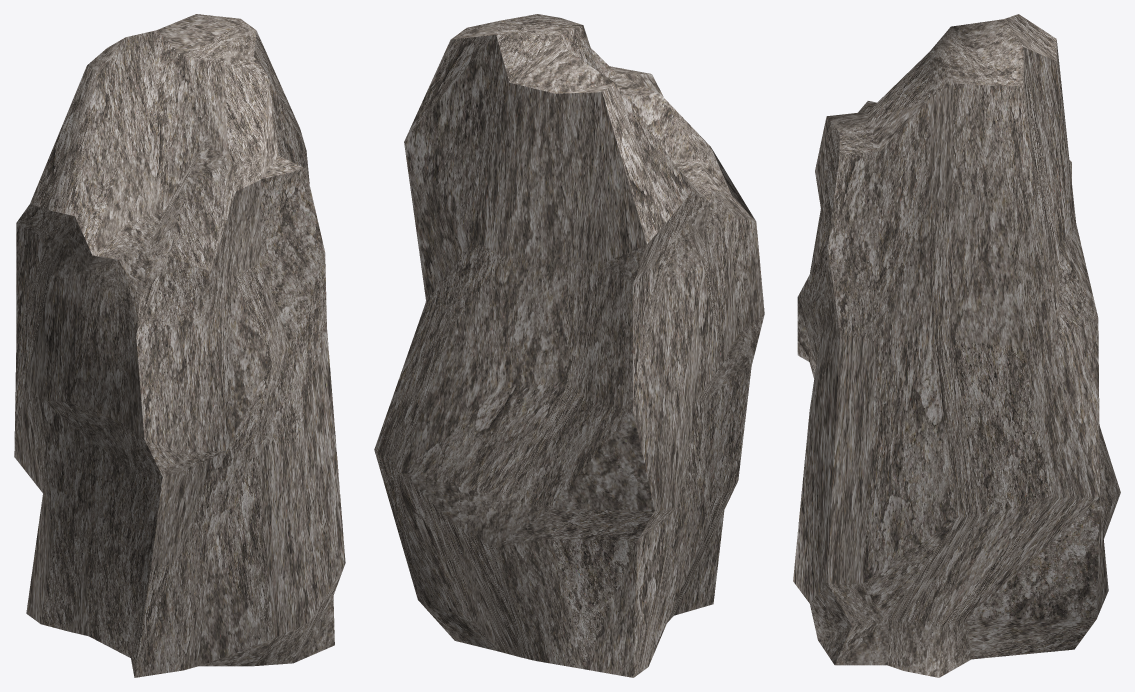
The model's file is stone3.FBX.
The picture shows the model from 3 angles, left to right: view 1: azimuth 30°, elevation 25°; view 2: azimuth 150°, elevation 25°; view 3: azimuth 270°, elevation 25°; orthographic projection. The views are drawn at different scales.
Parts seen in each view (by area): view 1: Box003; view 2: Box003; view 3: Box003.
Boxes of the visible parts, x1,y1,x2,y2 form: Box003: (14,14,345,677); Box003: (374,14,764,677); Box003: (793,14,1120,677).
Size of the model in its own units: 29.92 by 62.89 by 31.27.
